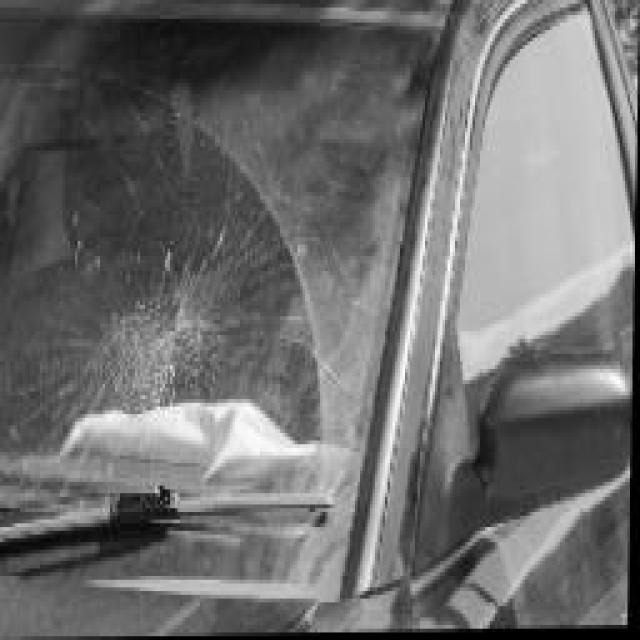Windshield: (0, 4, 410, 606)
